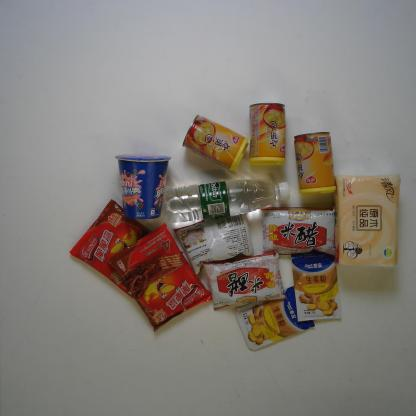Canned Food: (183, 114, 250, 170), (292, 128, 340, 196), (248, 100, 288, 167)
Dessert: (67, 197, 184, 304), (112, 225, 214, 324), (116, 152, 170, 221)
Drink: (160, 180, 290, 234)
Seasoner: (167, 199, 258, 278), (232, 282, 315, 354), (202, 247, 290, 313), (256, 200, 338, 258), (286, 252, 342, 326)
Tissue: (334, 165, 402, 271)
